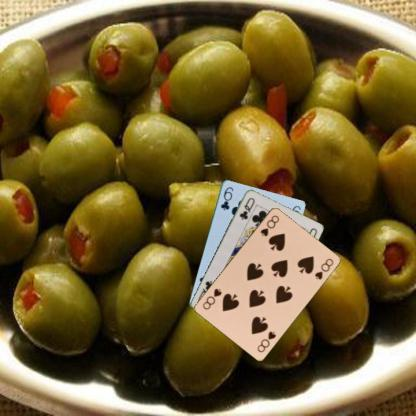6c: (218, 184, 234, 212)
8s: (258, 212, 280, 238), (255, 328, 277, 354)
Qc: (237, 194, 256, 220)
